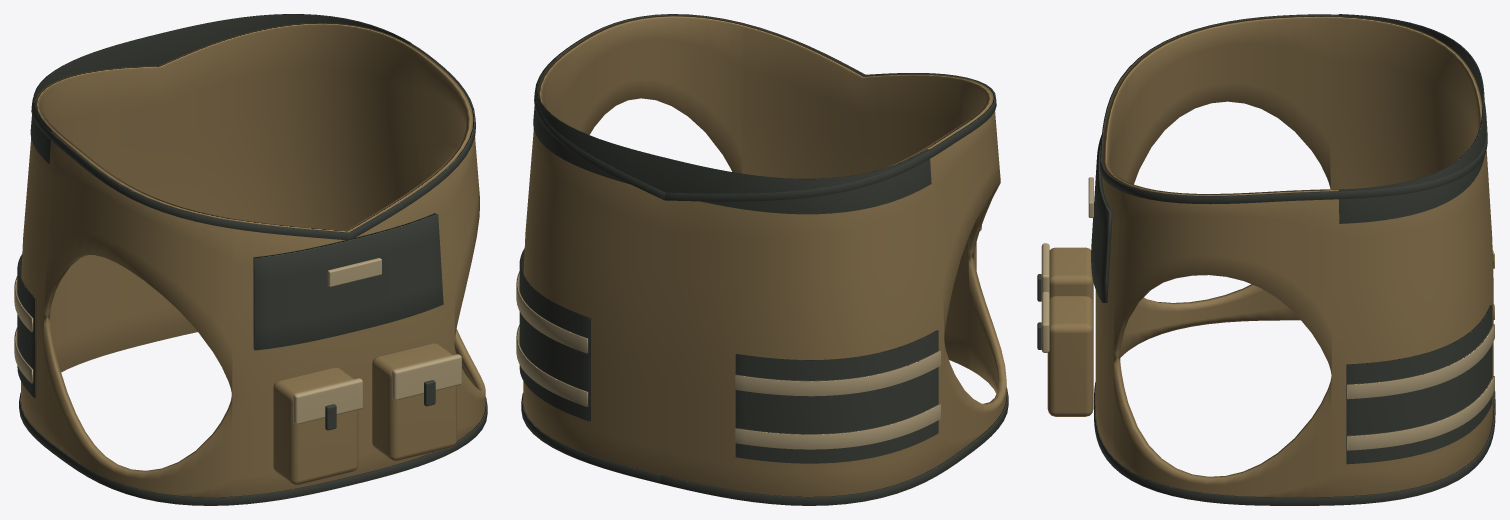
File: goose-heavy-vest.glb
3 renders of one model, left to right at view 1: azimuth 30°, elevation 25°; view 2: azimuth 150°, elevation 25°; view 3: azimuth 270°, elevation 25°, orthographic. The views are drawn at different scales.
Parts seen in each view (by area): view 1: goose_vest_heavy_mesh; view 2: goose_vest_heavy_mesh; view 3: goose_vest_heavy_mesh.
Boxes of the visible parts, x1,y1,x2,y2 form: goose_vest_heavy_mesh: [14, 14, 487, 505]; goose_vest_heavy_mesh: [516, 14, 1008, 505]; goose_vest_heavy_mesh: [1037, 14, 1495, 505].
Size of the model in its own units: 1.04 by 0.7812 by 1.05.
